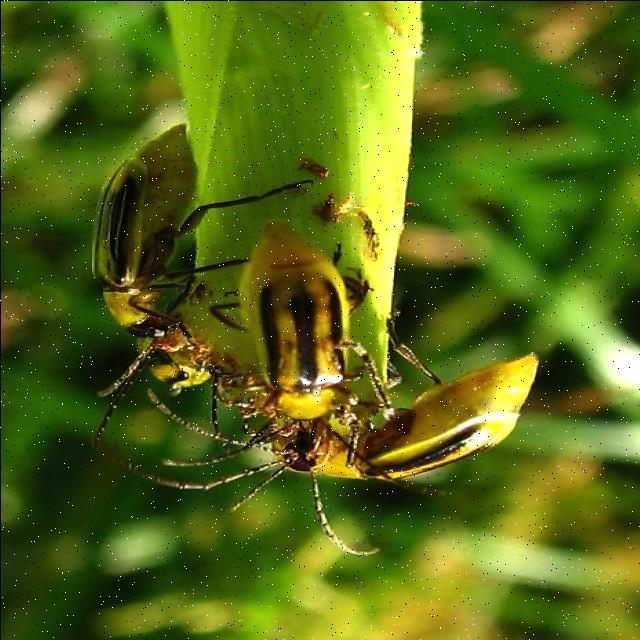trips: (70, 130, 212, 354), (238, 214, 356, 458), (356, 350, 534, 493)
